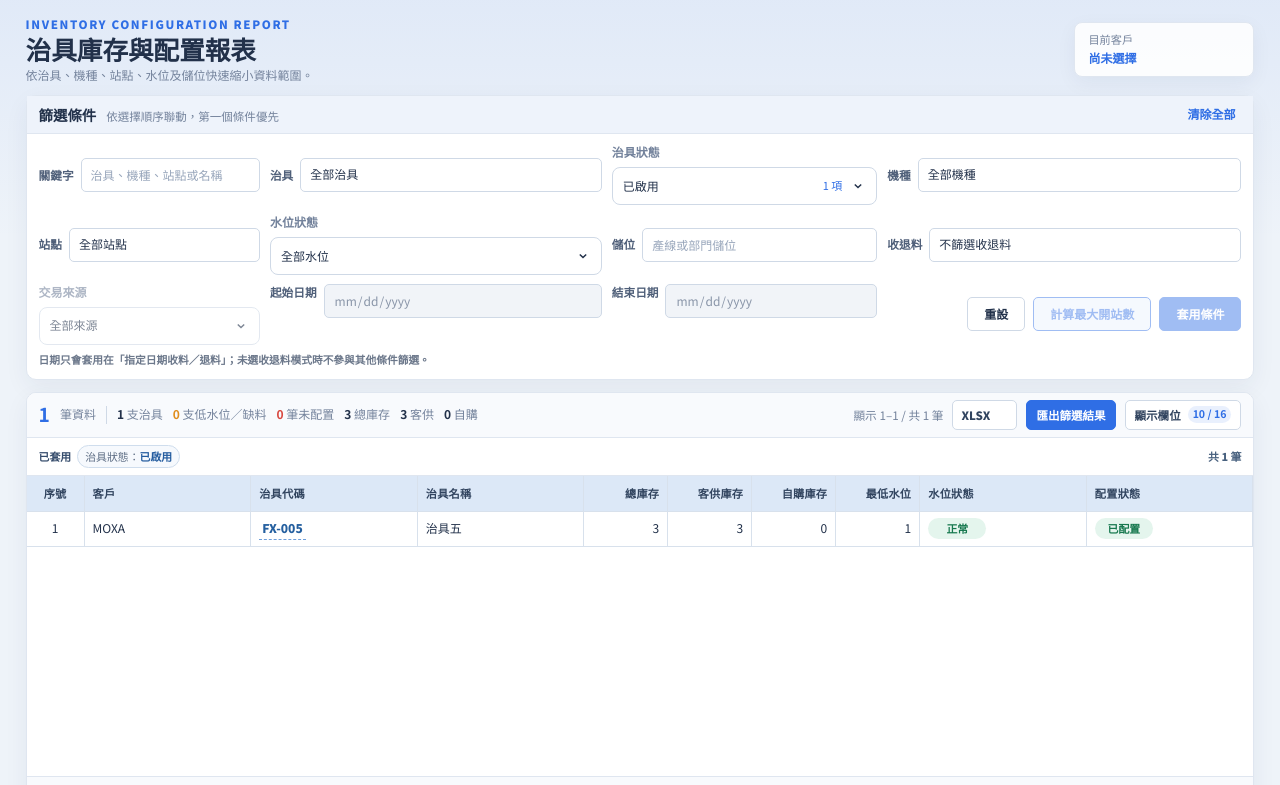
InventoryRelationsPage mobile filters › automatically collapses columns without data after the report is filtered
Expected: the button with class "column-picker-trigger" shows "10 / 16", [1125, 400, 1241, 430]
Select "MODEL-7" in the dropdown named "機種篩選" at {"x": 1080, "y": 175}, box [918, 158, 1241, 192]
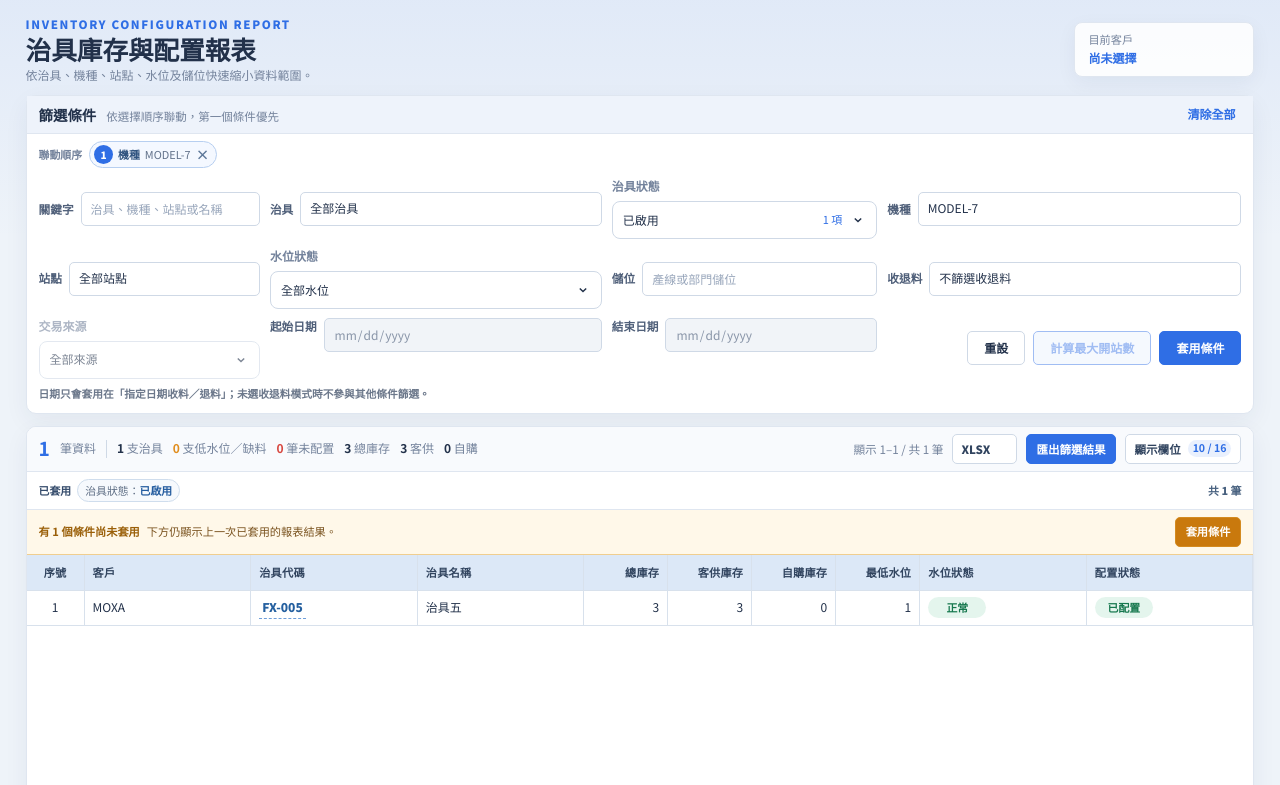
Click the button "套用條件" in the row of "結束日期" at {"x": 1200, "y": 348}, box [1159, 331, 1241, 365]
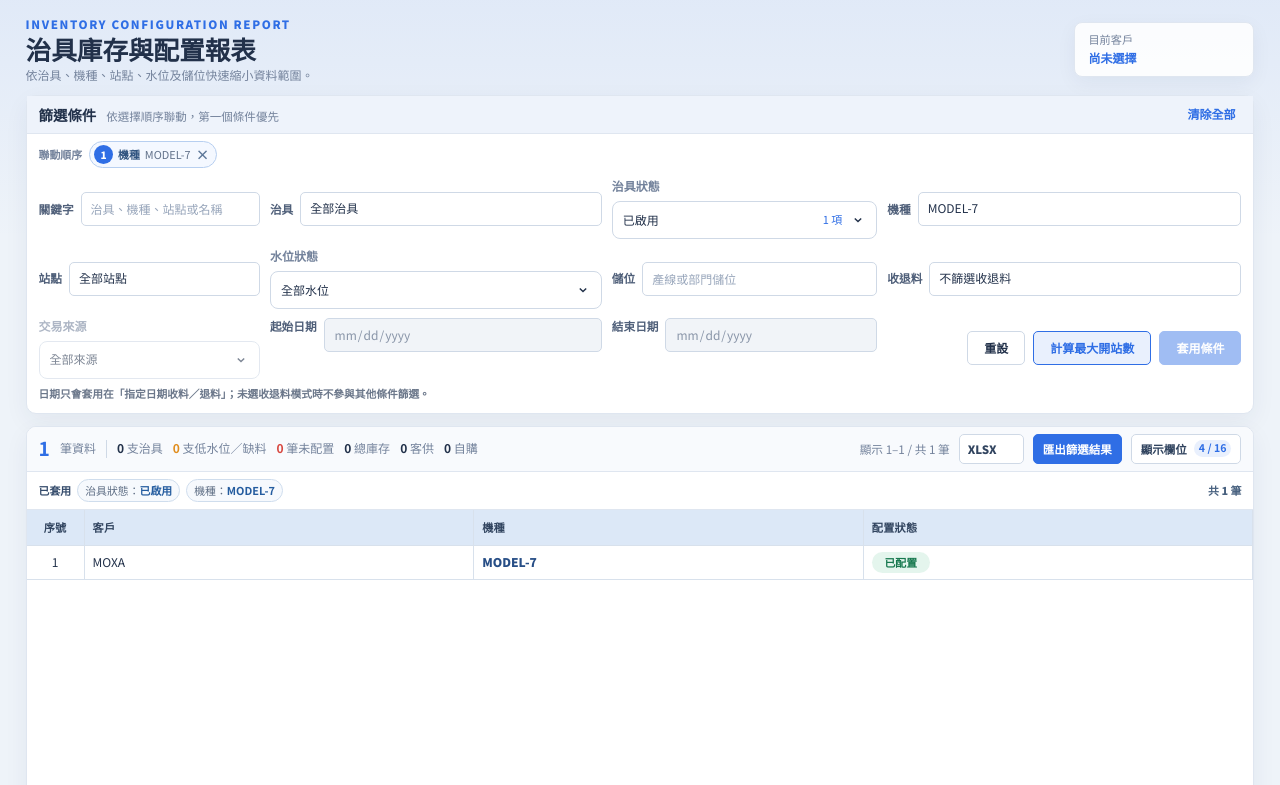
Now the button with class "column-picker-trigger" shows "4 / 16"
Click the button with class "column-picker-trigger" at {"x": 1186, "y": 449}, box [1131, 434, 1241, 464]
(page scrolled)
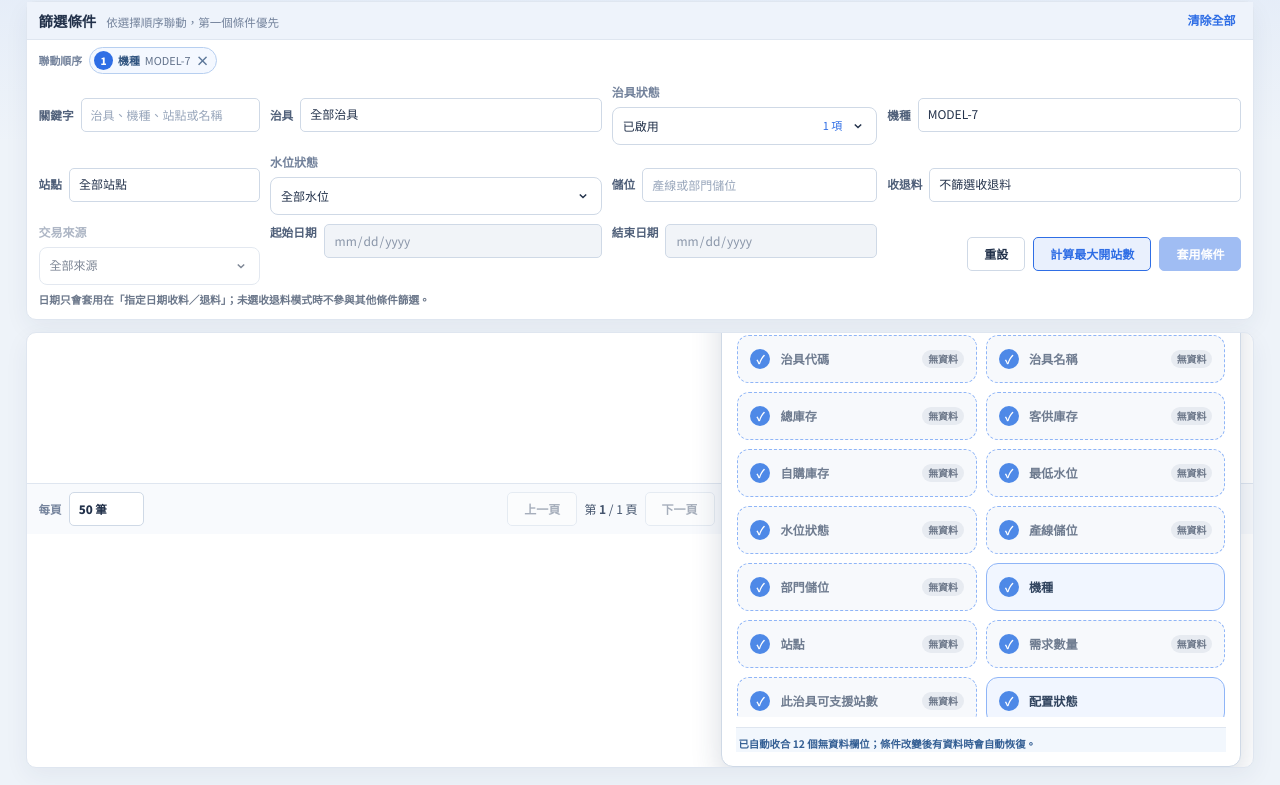
Now the number of checkboxes with class "auto-hidden" is 12
Now the text with class "auto-hidden-note" shows "已自動收合 12 個無資料欄位", box [738, 736, 1036, 751]
